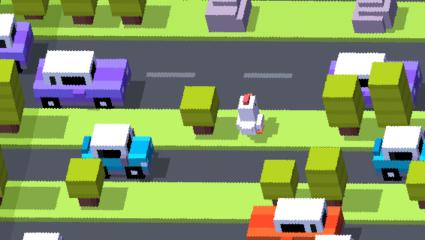hen: (234, 93, 265, 134)
obstacle: (37, 49, 133, 106), (328, 53, 422, 102), (84, 123, 157, 178), (247, 198, 341, 239), (367, 63, 413, 128), (375, 126, 425, 181), (322, 75, 365, 136), (308, 148, 342, 207), (0, 16, 33, 74), (67, 158, 104, 206), (181, 86, 219, 132), (0, 58, 21, 134), (206, 0, 254, 32), (353, 0, 400, 32), (262, 160, 299, 200), (407, 161, 425, 210), (108, 0, 145, 23), (58, 0, 96, 22), (14, 0, 50, 19), (20, 233, 66, 240)
